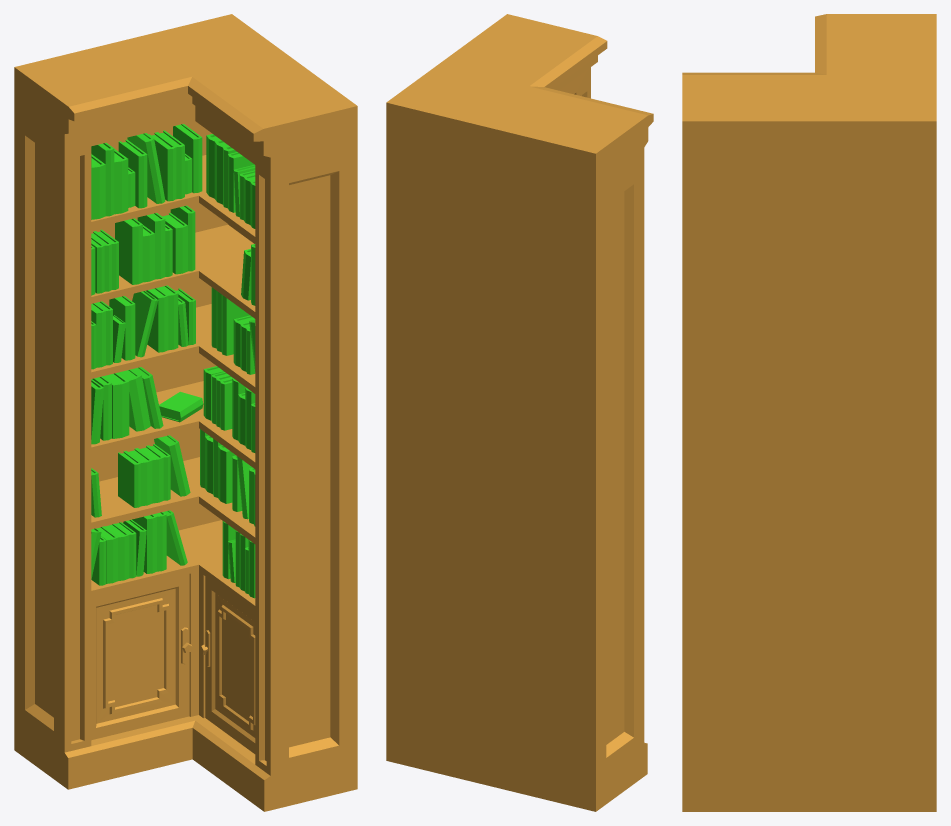
File: SM_Bookcase_Modular_Cabinet_Filled_Corner_Inner.fbx
3 renders of one model, left to right at view 1: azimuth 30°, elevation 25°; view 2: azimuth 150°, elevation 25°; view 3: azimuth 270°, elevation 25°, orthographic. The views are drawn at different scales.
Parts seen in each view (by area): view 1: library-modular-cabinet-filled-corner-inner-base, library-modular-cabinet-filled-corner-inner-door-l, library-modular-cabinet-filled-corner-inner-door-r; view 2: library-modular-cabinet-filled-corner-inner-base; view 3: library-modular-cabinet-filled-corner-inner-base.
Part boxes in pixels (left/top/right/bottom): library-modular-cabinet-filled-corner-inner-base: left=14, top=14, right=357, bottom=811; library-modular-cabinet-filled-corner-inner-door-l: left=91, top=574, right=192, bottom=740; library-modular-cabinet-filled-corner-inner-door-r: left=199, top=576, right=255, bottom=753; library-modular-cabinet-filled-corner-inner-base: left=386, top=14, right=653, bottom=811; library-modular-cabinet-filled-corner-inner-base: left=682, top=14, right=936, bottom=811.
Bounding box in the file's own units: 1 × 3 × 1.
